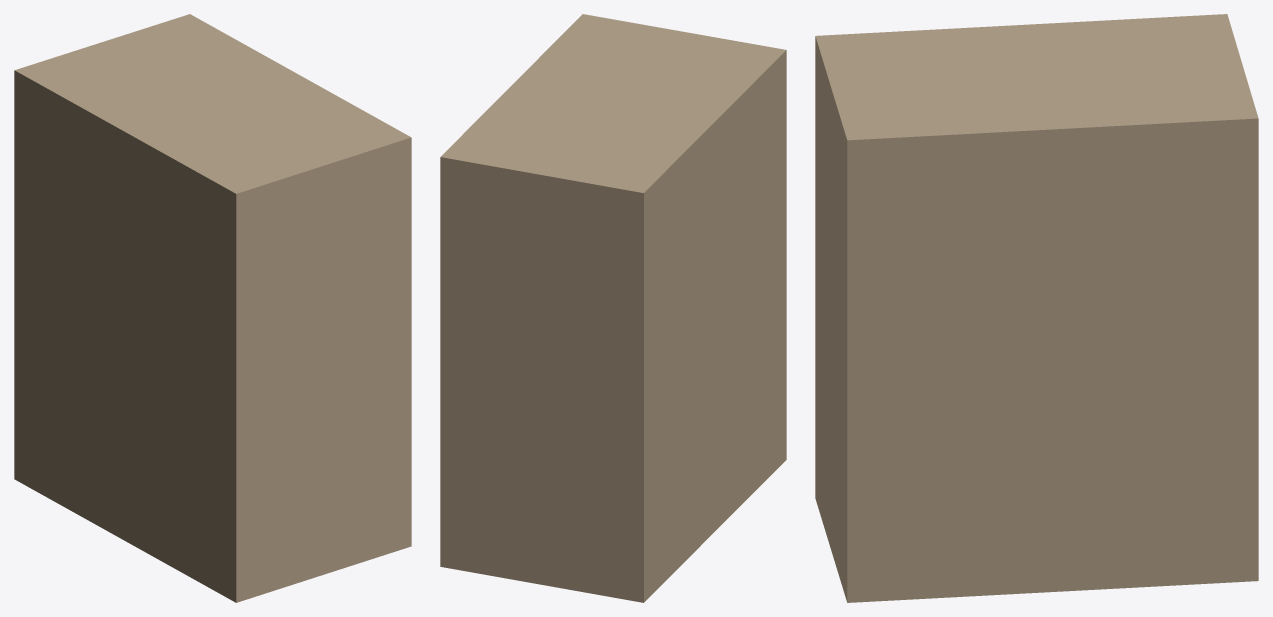
File: bld_393483738.dae
3 renders of one model, left to right at view 1: azimuth 30°, elevation 25°; view 2: azimuth 150°, elevation 25°; view 3: azimuth 270°, elevation 25°, orthographic. The views are drawn at different scales.
Visible parts, largest first — view 1: bld_393483738; view 2: bld_393483738; view 3: bld_393483738.
Boxes of the visible parts, bbox=[...] form: bld_393483738: bbox=[14, 14, 411, 602]; bld_393483738: bbox=[440, 14, 786, 602]; bld_393483738: bbox=[815, 14, 1258, 602].
Size of the model in its own units: 4.69 by 6.95 by 8.
